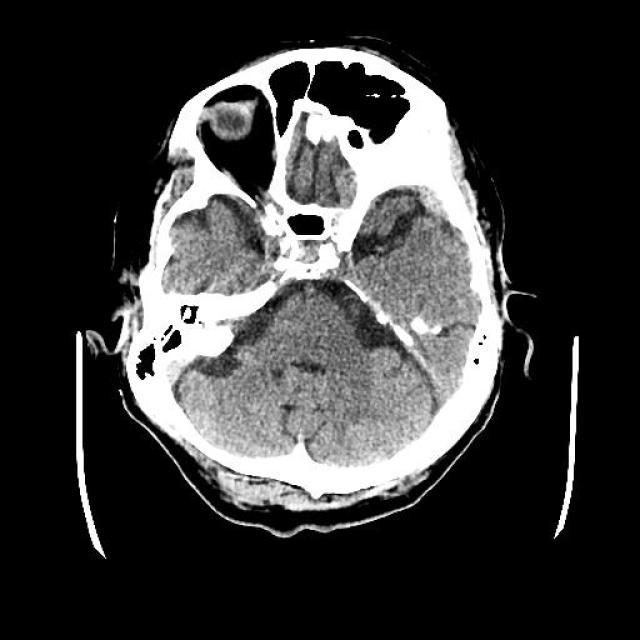Subdural: (383, 180, 465, 241)
